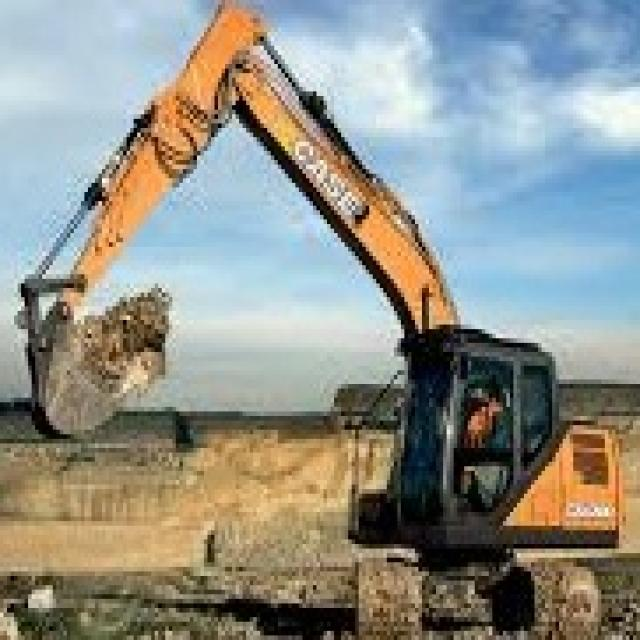excavator: (349, 315, 626, 613)
